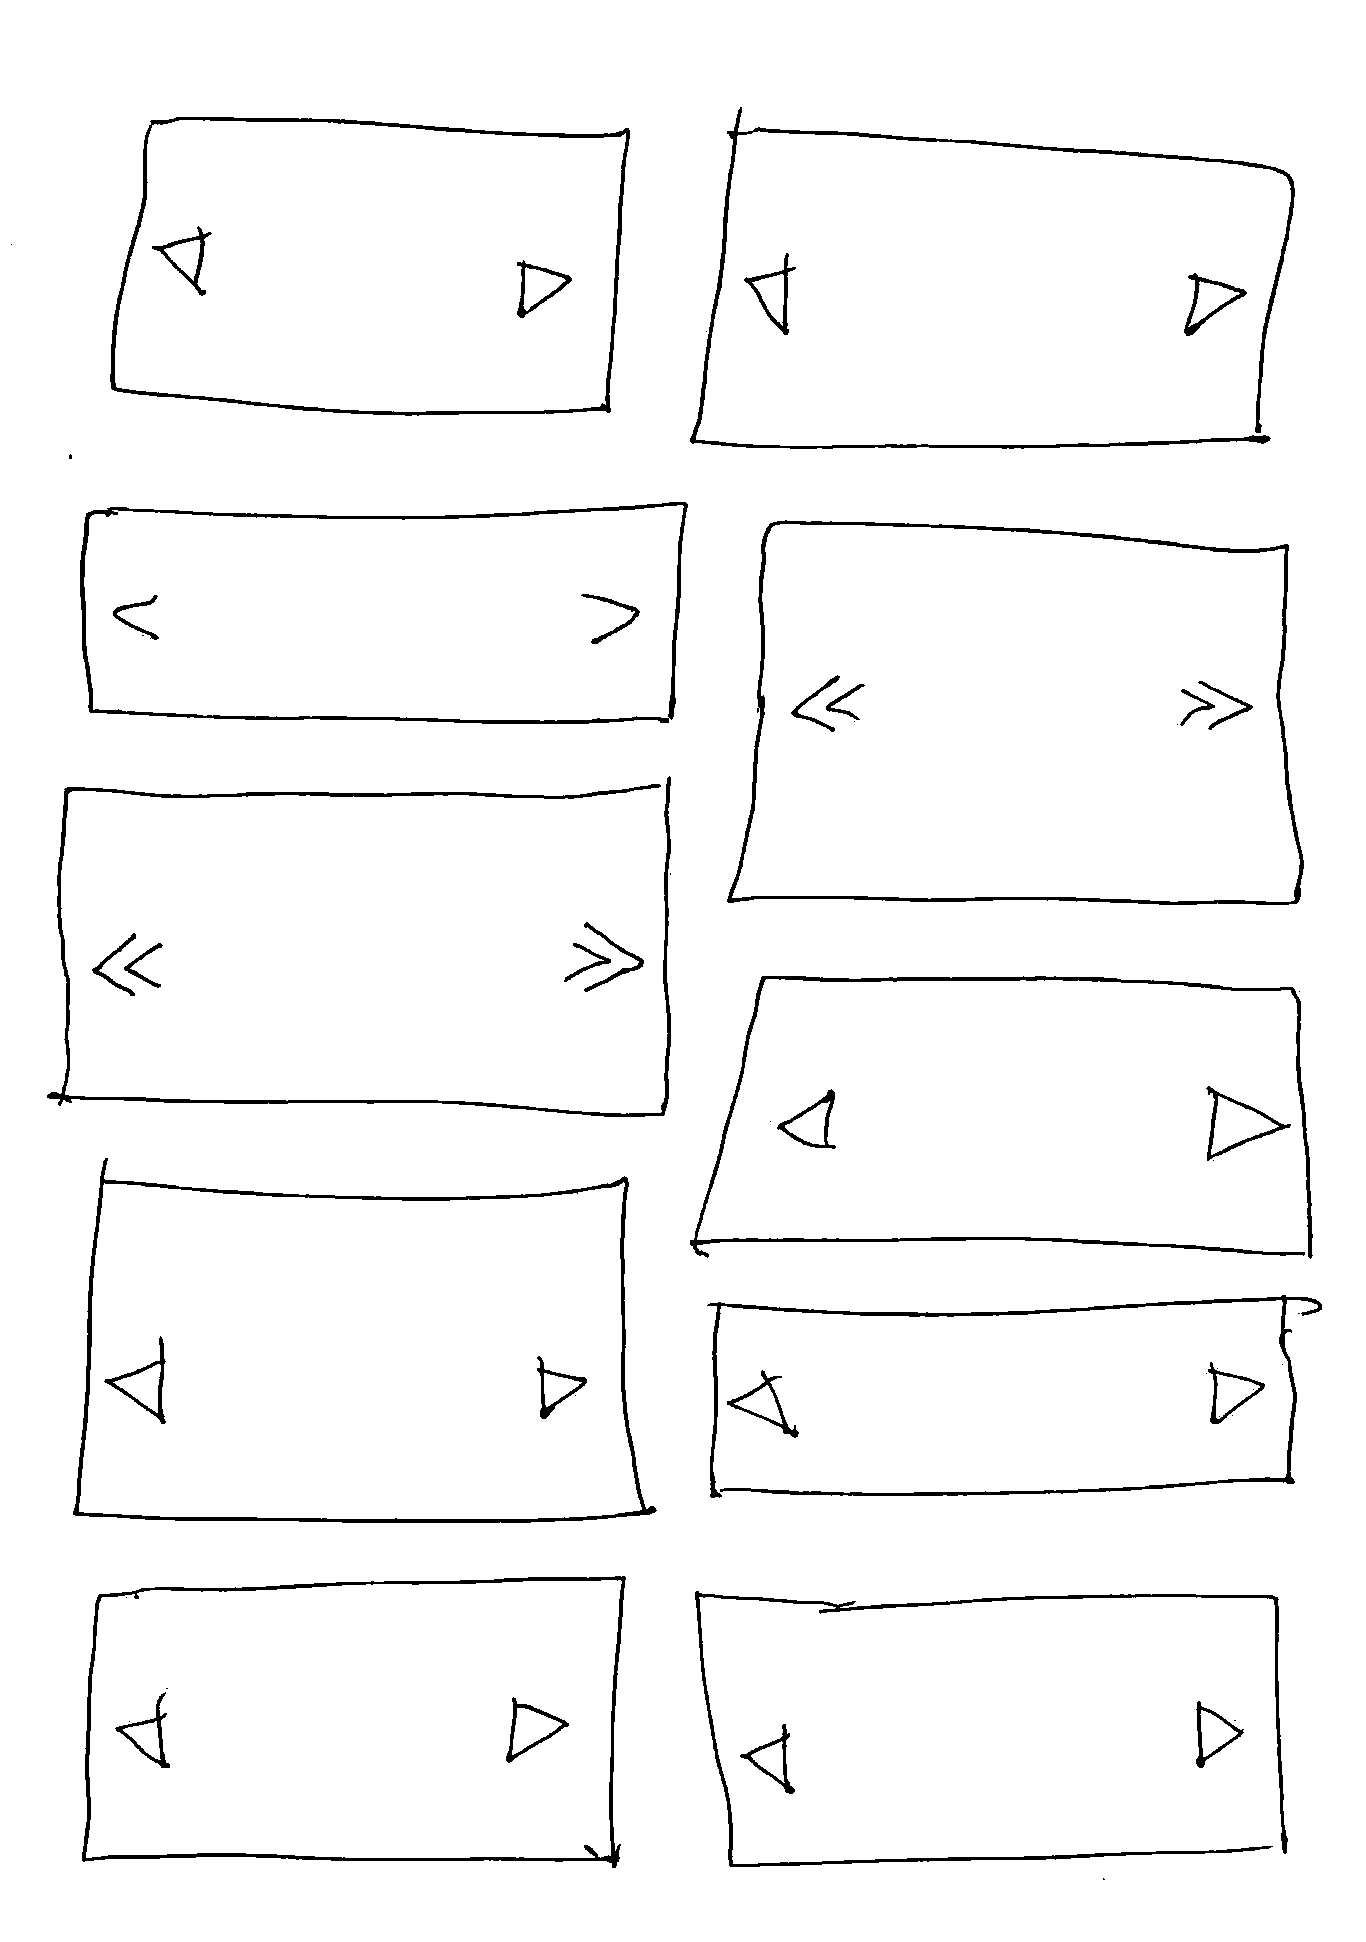Carousel: (727, 522, 1304, 904), (41, 776, 671, 1117), (72, 1157, 656, 1522), (690, 106, 1295, 449), (690, 975, 1313, 1258), (695, 1592, 1288, 1867), (81, 1575, 625, 1868), (111, 117, 630, 415), (80, 502, 687, 724), (704, 1295, 1322, 1505)
